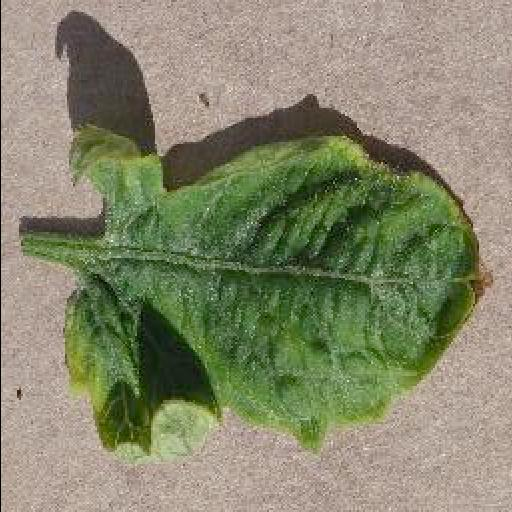disease_tomato: (62, 129, 488, 463)
